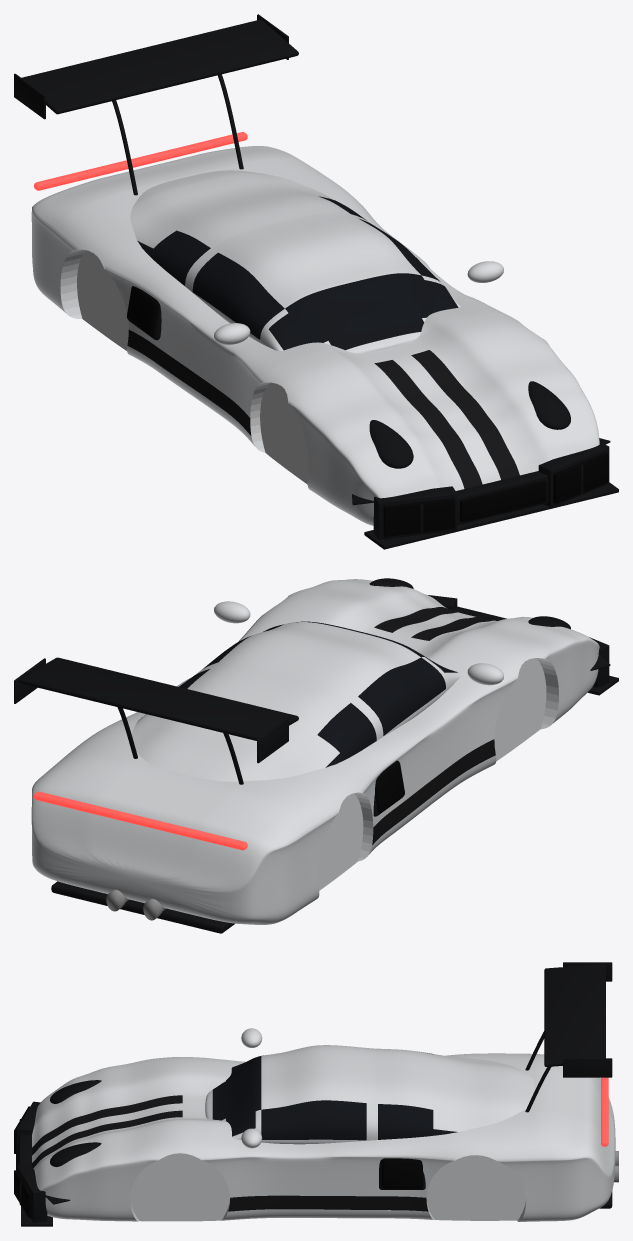
Rendered from coupe.glb.
The picture shows the model from 3 angles, top to bottom: view 1: azimuth 30°, elevation 25°; view 2: azimuth 150°, elevation 25°; view 3: azimuth 270°, elevation 25°; orthographic projection. The views are drawn at different scales.
Parts seen in each view (by area): view 1: body, cabin, wing_blade, stripe_decal.001, stripe_decal, corner_intake, centre_intake, tail_bar, splitter, corner_intake.001, corner_frame, lamp_ring (+5 smaller); view 2: body, cabin, wing_blade, tail_bar, diffuser, side_intake, stripe_decal.001, endplate, stripe_decal, mirror.001, mirror; view 3: body, cabin, wing_blade, stripe_decal, side_intake.001, stripe_decal.001, endplate.001, corner_frame.001, lamp_ring.001, tail_bar, lamp_ring, corner_intake.001 (+2 smaller).
Boxes of the visible parts, box(x1,y1,x2,y2) form: body: box(31, 146, 599, 525); cabin: box(130, 170, 460, 353); wing_blade: box(21, 19, 298, 114); stripe_decal.001: box(411, 350, 519, 479); stripe_decal: box(374, 360, 482, 488); corner_intake: box(383, 498, 455, 536); centre_intake: box(460, 480, 546, 522); tail_bar: box(34, 132, 247, 190); splitter: box(364, 482, 618, 549); corner_intake.001: box(553, 452, 608, 503); corner_frame: box(373, 486, 457, 539); lamp_ring: box(369, 420, 413, 468); body: box(31, 579, 599, 924); cabin: box(131, 621, 461, 781); wing_blade: box(19, 657, 298, 740); tail_bar: box(34, 791, 247, 850); diffuser: box(51, 881, 234, 933); side_intake: box(375, 760, 404, 812); stripe_decal.001: box(374, 607, 465, 632); endplate: box(257, 717, 288, 763); stripe_decal: box(411, 617, 498, 640); mirror.001: box(214, 601, 250, 623); mirror: box(467, 663, 503, 685); body: box(32, 1053, 615, 1221); cabin: box(205, 1045, 534, 1144); wing_blade: box(544, 964, 605, 1066); stripe_decal: box(32, 1095, 182, 1155); side_intake.001: box(381, 1158, 423, 1188); stripe_decal.001: box(32, 1110, 182, 1167); endplate.001: box(563, 1058, 612, 1077); corner_frame.001: box(17, 1164, 47, 1222); lamp_ring.001: box(50, 1142, 101, 1166); tail_bar: box(601, 1077, 608, 1146); lamp_ring: box(50, 1080, 101, 1103); corner_intake.001: box(14, 1170, 31, 1217).
Size of the model in its own units: 2.18 by 1.52 by 4.9.
